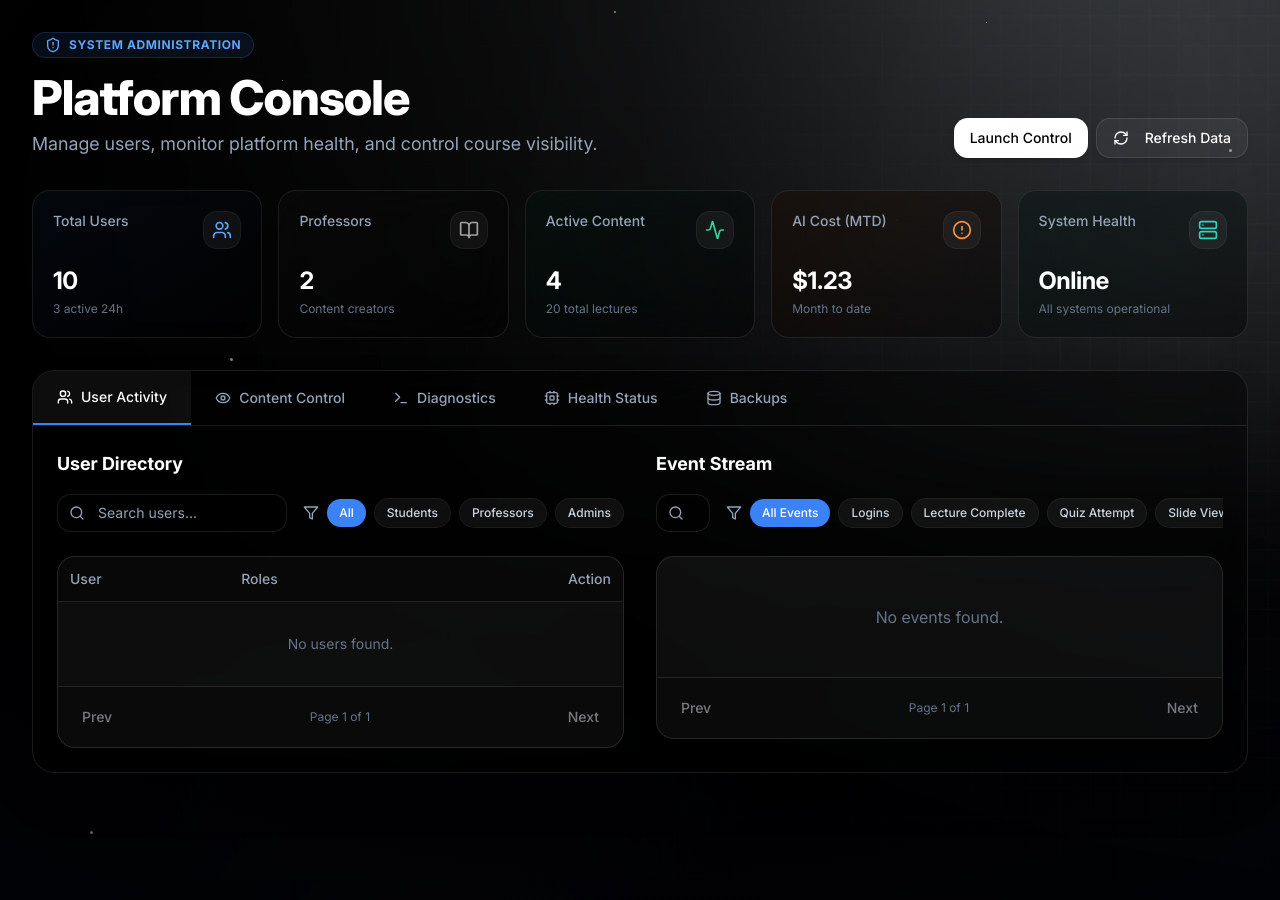
it: AdminDashboard — Diagnostics tab (R1 regression) › does not render the banner when Sentry is configured and returns real issues
Click the button "Diagnostics" at {"x": 444, "y": 398}, box [369,371,520,425]
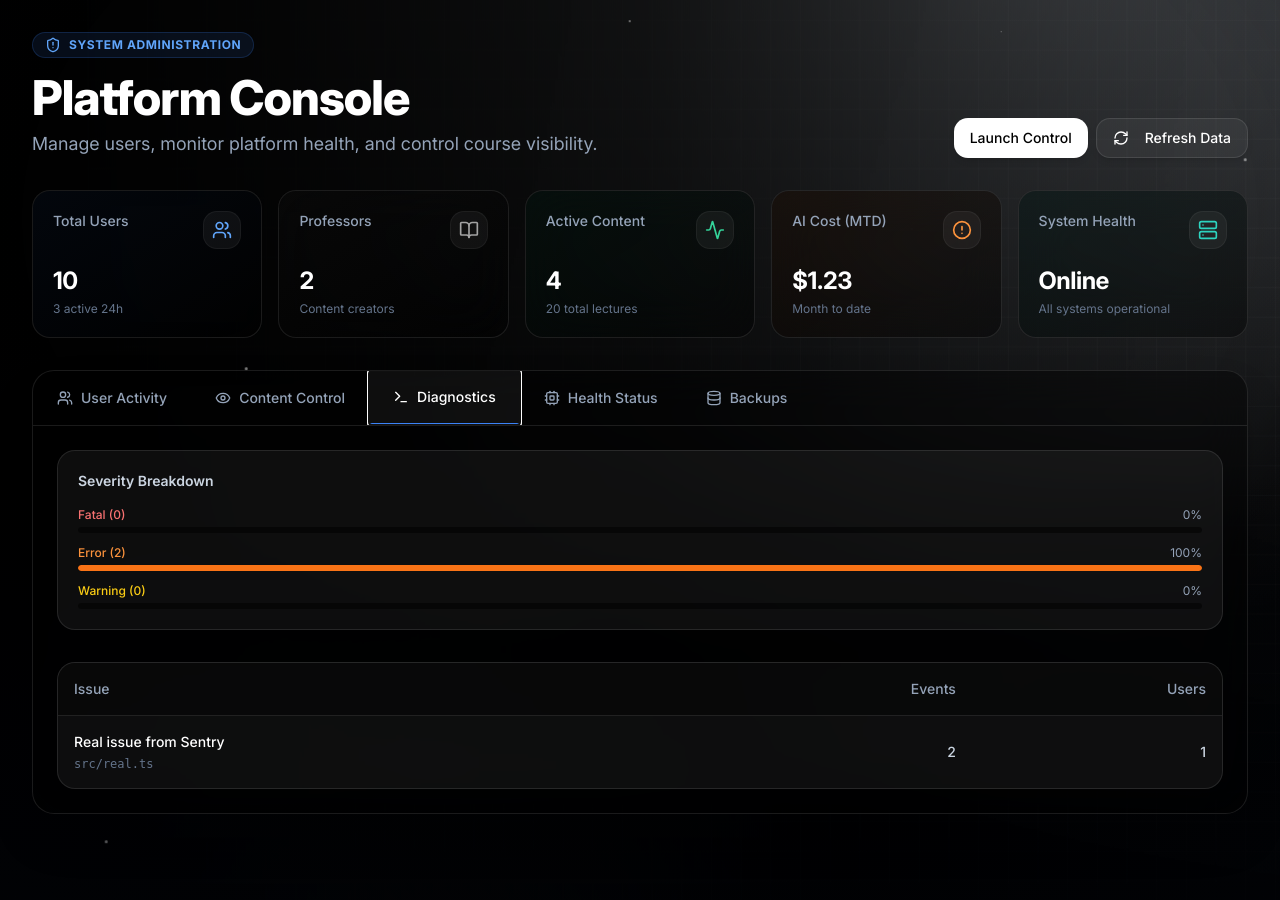
Result: the text "Real issue from Sentry" is shown at [74,733,225,750]
